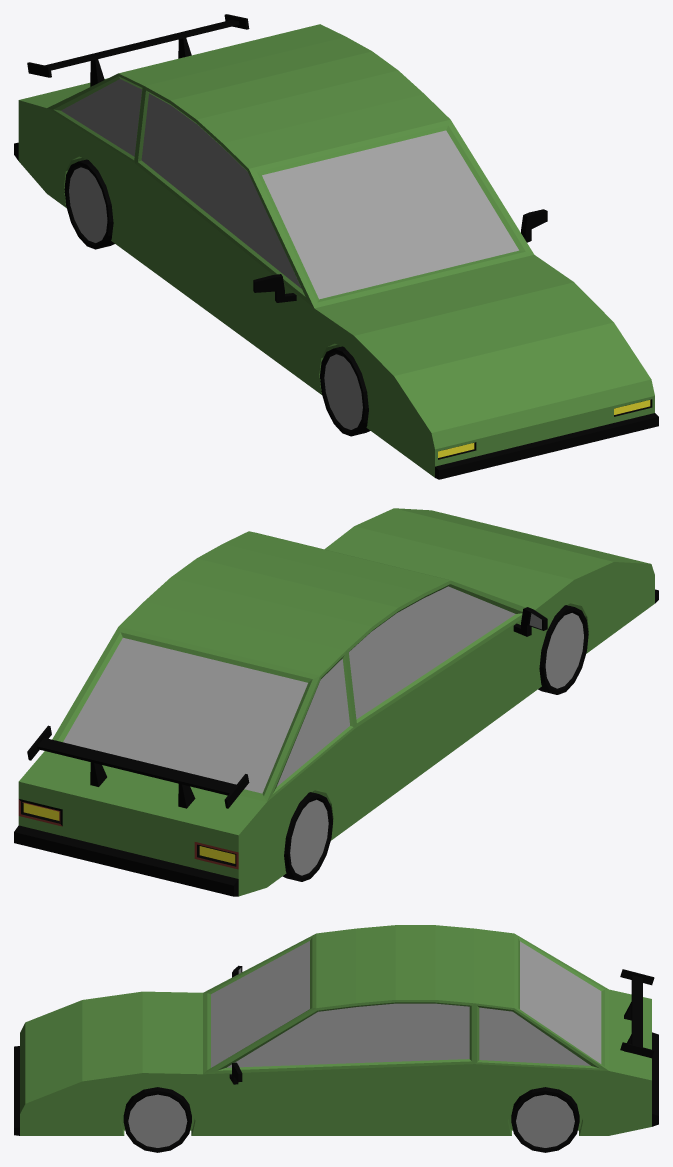
Rendered from Sports Car 3.fbx.
3 views of the same model, one above another, from view 1: azimuth 30°, elevation 25°; view 2: azimuth 150°, elevation 25°; view 3: azimuth 270°, elevation 25° (orthographic). The views are drawn at different scales.
Parts seen in each view (by area): view 1: Sports Car Body.003, Wheel FR.025, Wheel RR.023; view 2: Sports Car Body.003, Wheel FR.025, Wheel RR.023; view 3: Sports Car Body.003, Wheel FL.025, Wheel RL.023.
Part boxes in pixels (<box>): Sports Car Body.003: <box>14,14,658,479</box>; Wheel FR.025: <box>320,346,370,436</box>; Wheel RR.023: <box>64,159,114,249</box>; Sports Car Body.003: <box>14,508,658,896</box>; Wheel FR.025: <box>538,605,588,694</box>; Wheel RR.023: <box>282,792,332,881</box>; Sports Car Body.003: <box>14,925,658,1135</box>; Wheel FL.025: <box>123,1087,191,1152</box>; Wheel RL.023: <box>511,1087,579,1152</box>.
Size of the model in its own units: 1.82 by 1.16 by 4.56.
